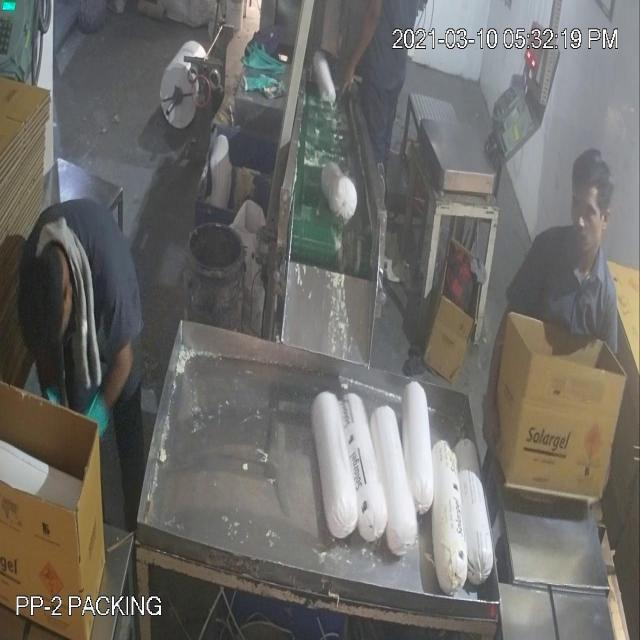No_Gloves: (40, 58, 496, 370)
